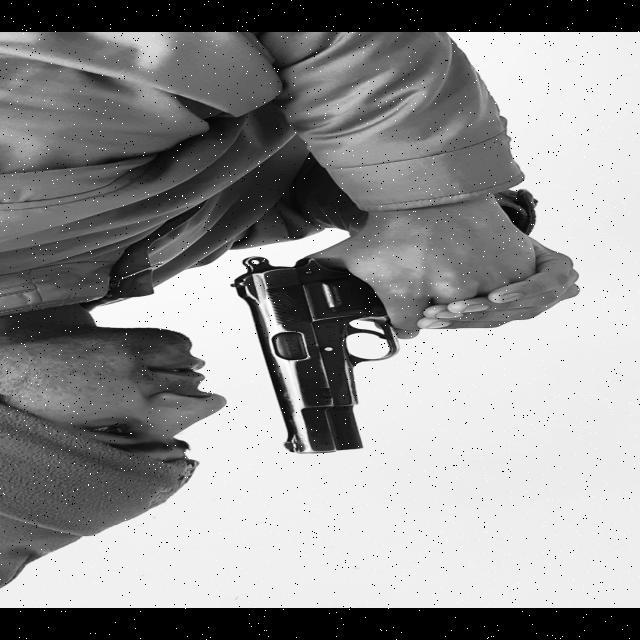gun: (213, 222, 567, 460)
